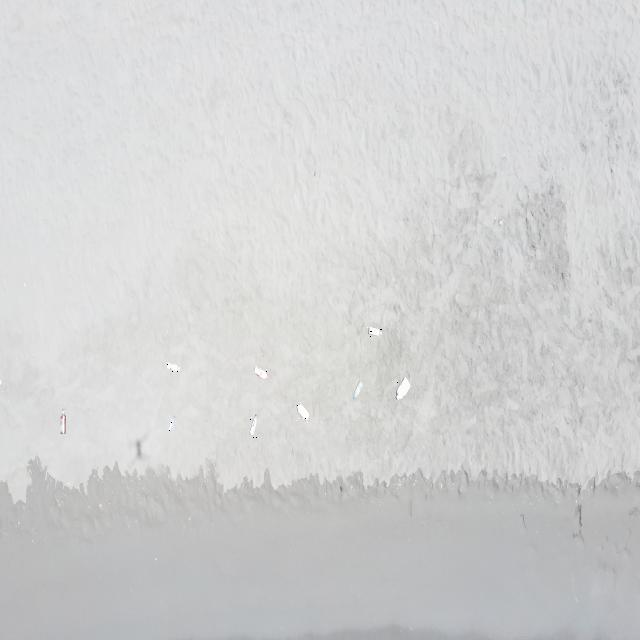Garbage: (395, 376, 409, 399), (352, 380, 362, 399), (296, 404, 307, 420), (249, 413, 256, 436), (253, 366, 267, 377), (60, 409, 65, 433), (167, 362, 179, 371), (368, 326, 380, 335)
